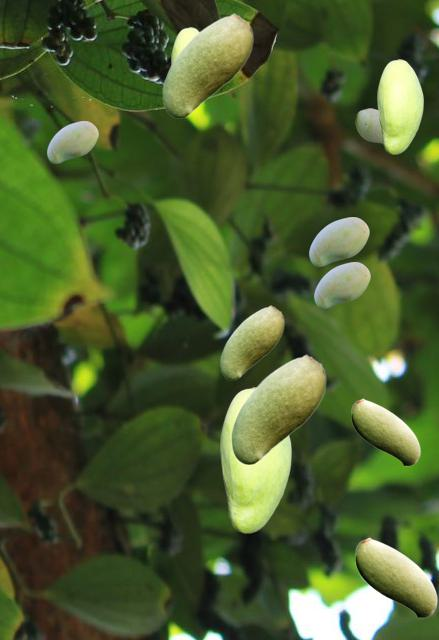green_mango: (231, 354, 325, 463), (220, 387, 290, 532), (162, 13, 252, 117), (355, 537, 436, 617), (220, 305, 283, 379), (351, 398, 419, 465), (377, 59, 422, 153), (309, 217, 368, 265), (314, 262, 369, 307), (47, 121, 97, 162), (171, 27, 198, 63), (355, 108, 381, 143)
